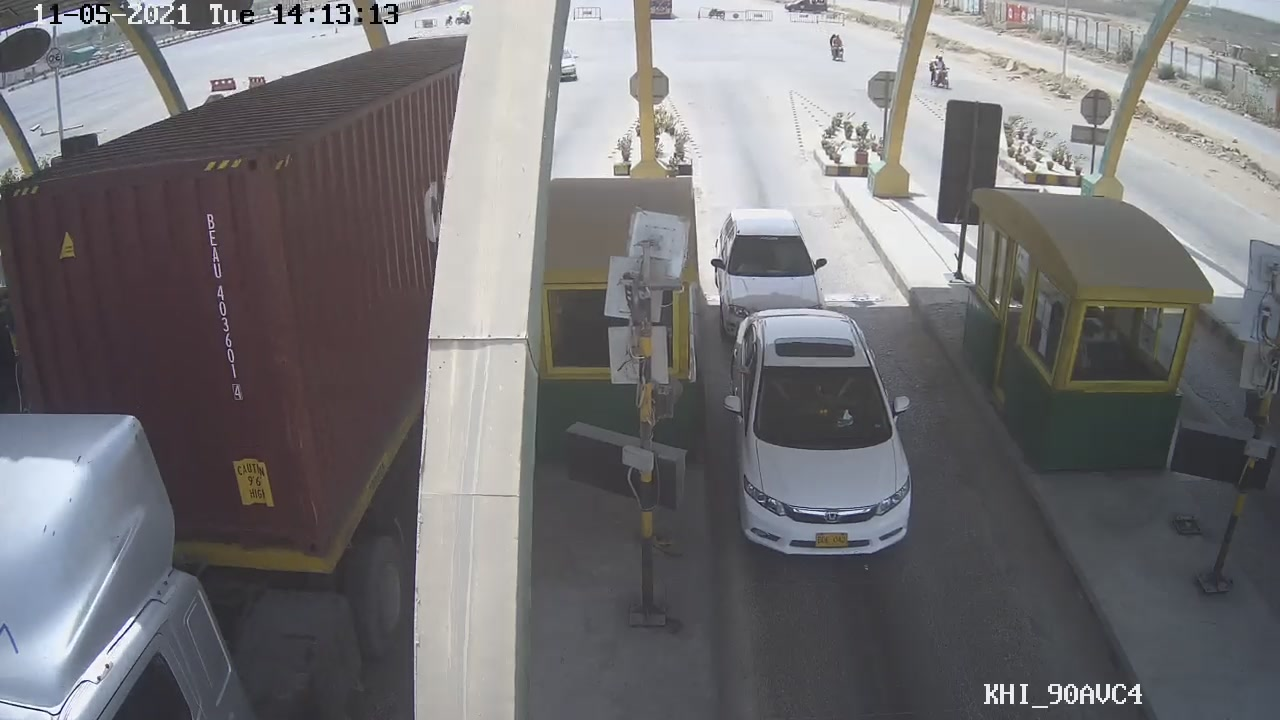F1: (714, 300, 919, 572)
